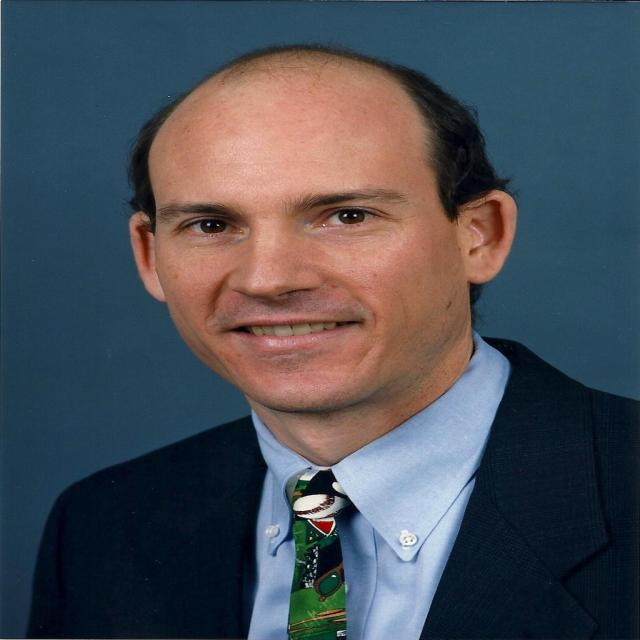Face: (131, 82, 467, 411)
